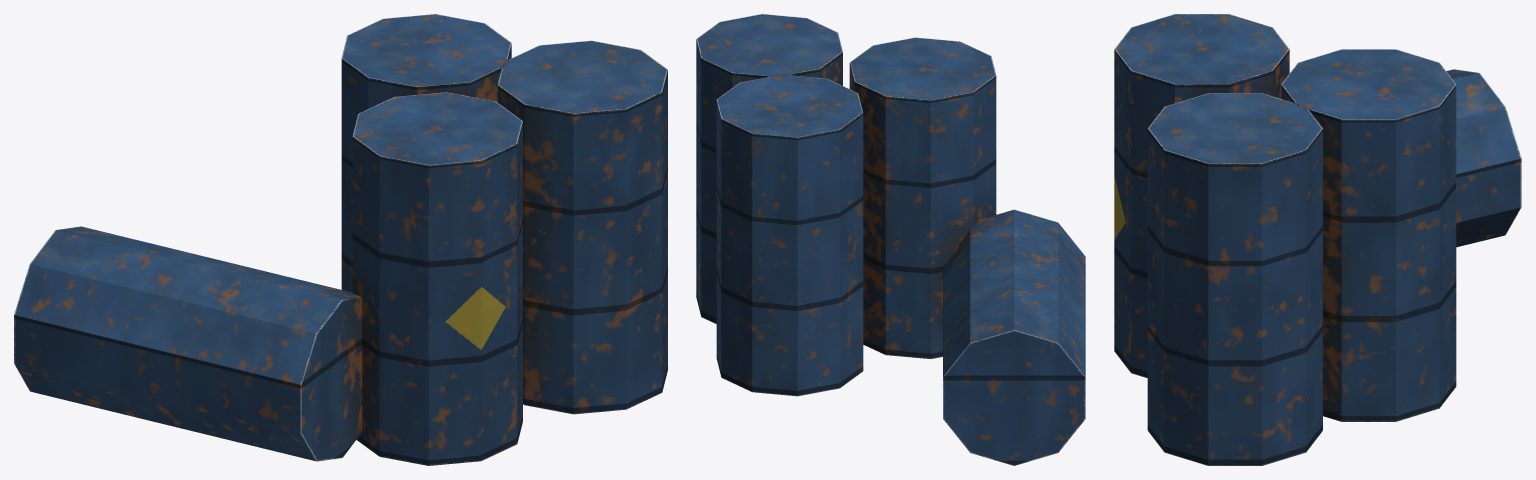
Rendered from Barriles.glb.
The picture shows the model from 3 angles, left to right: view 1: azimuth 30°, elevation 25°; view 2: azimuth 150°, elevation 25°; view 3: azimuth 270°, elevation 25°; orthographic projection. The views are drawn at different scales.
Parts seen in each view (by area): view 1: Barriles; view 2: Barriles; view 3: Barriles.
Part boxes in pixels (bbox=[...]): Barriles: bbox=[14, 14, 667, 465]; Barriles: bbox=[696, 14, 1085, 465]; Barriles: bbox=[1114, 14, 1521, 465].
Size of the model in its own units: 7.51 by 4 by 4.88.
1 material, 1 textured.
